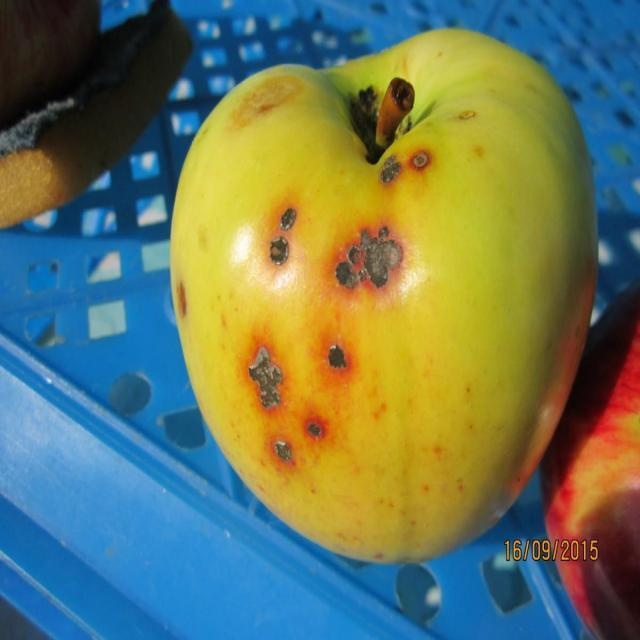Rotten: (180, 32, 595, 555)
